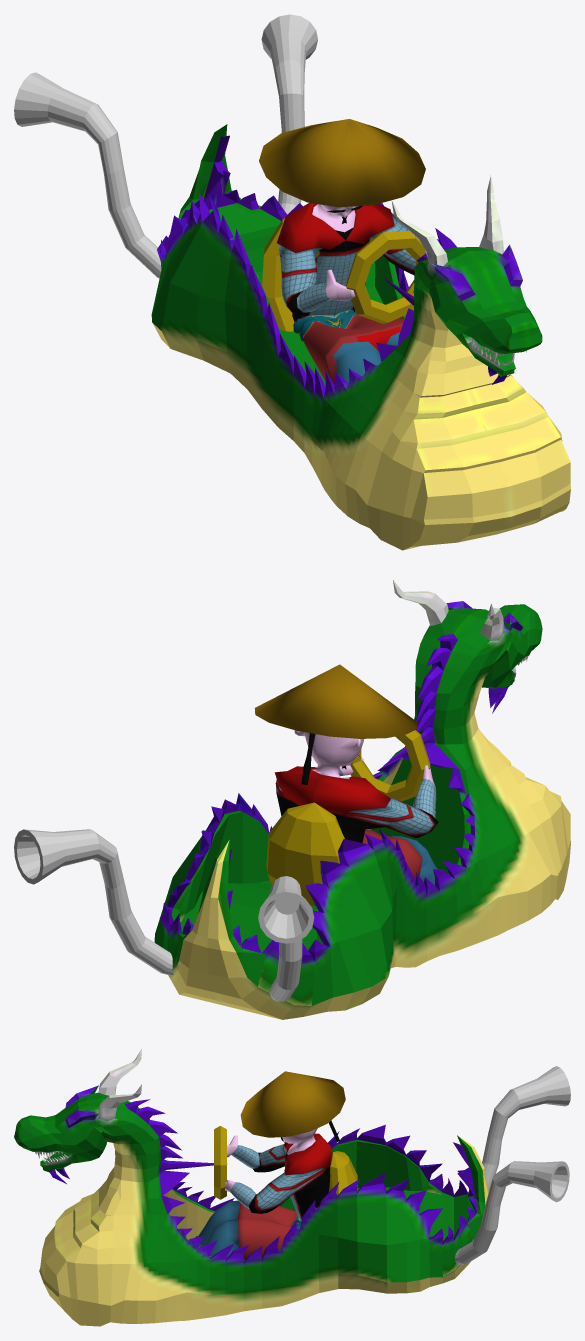
The model's file is Chinovacile_000232.obj.
The picture shows the model from 3 angles, top to bottom: view 1: azimuth 30°, elevation 25°; view 2: azimuth 150°, elevation 25°; view 3: azimuth 270°, elevation 25°; orthographic projection. The views are drawn at different scales.
Parts seen in each view (by area): view 1: ChasisChino_ChasisChinoH, Chino_ChinoH, Tubos_TubosH, volanteChino_VolanteChinoH, AsientoChinoMalla_AsientoChinoMH; view 2: ChasisChino_ChasisChinoH, Chino_ChinoH, Tubos_TubosH, AsientoChinoMalla_AsientoChinoMH, volanteChino_VolanteChinoH; view 3: ChasisChino_ChasisChinoH, Chino_ChinoH, Tubos_TubosH, volanteChino_VolanteChinoH, AsientoChinoMalla_AsientoChinoMH.
Boxes of the visible parts, x1,y1,x2,y2 form: ChasisChino_ChasisChinoH: (151,124,570,550); Chino_ChinoH: (259,119,425,383); Tubos_TubosH: (14,14,317,278); volanteChino_VolanteChinoH: (346,231,425,323); AsientoChinoMalla_AsientoChinoMH: (262,218,355,331); ChasisChino_ChasisChinoH: (154,580,570,1019); Chino_ChinoH: (254,664,438,884); Tubos_TubosH: (14,829,314,1001); AsientoChinoMalla_AsientoChinoMH: (266,802,344,906); volanteChino_VolanteChinoH: (350,730,430,801); ChasisChino_ChasisChinoH: (14,1049,489,1326); Chino_ChinoH: (195,1071,345,1259); Tubos_TubosH: (455,1066,570,1264); volanteChino_VolanteChinoH: (214,1126,226,1199); AsientoChinoMalla_AsientoChinoMH: (328,1151,357,1194).
Bounding box in the file's own units: 6.15 × 6.07 × 13.3.
